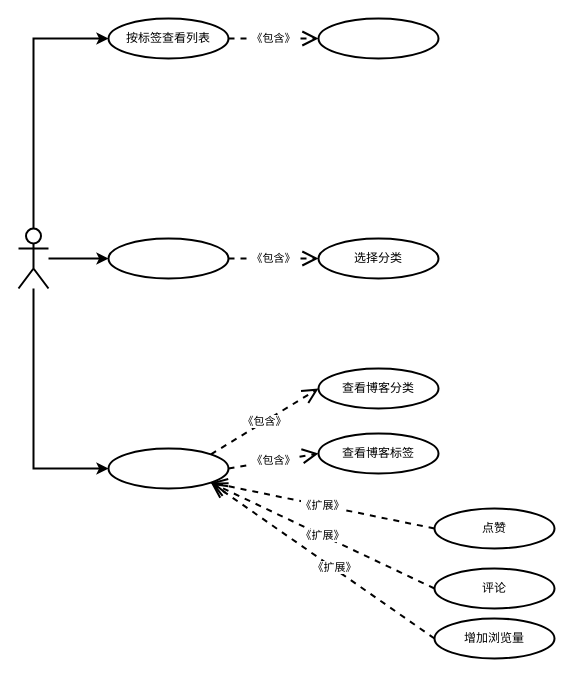
Some shapes in this 572 by 676 pixel diagram are drawn without their labels. Each missing label, with the centre of its shape:
"按分类查看列表" goes at (168,258).
"查看博客详情" goes at (168,468).
"用户" goes at (33,258).
"选择标签" goes at (378,38).
